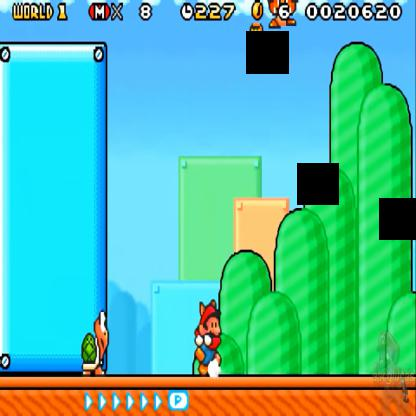Mario: (186, 293, 224, 378)
koopa: (77, 310, 113, 378)
moneda: (251, 2, 264, 22)
